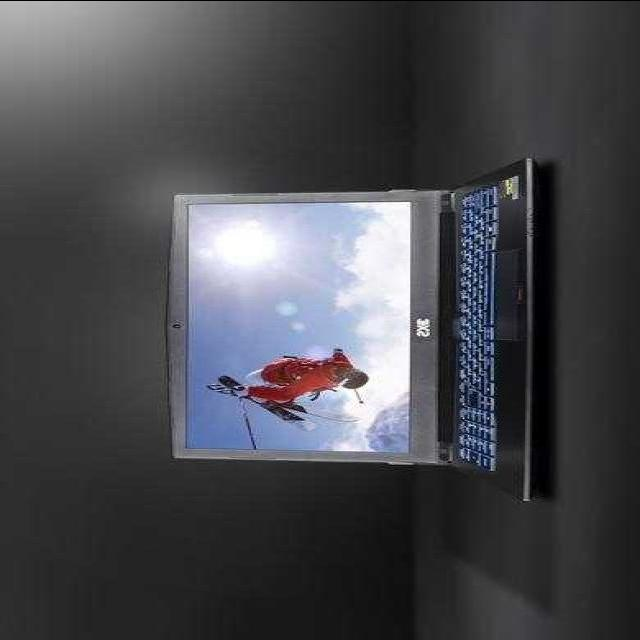-keyboard-: (154, 156, 596, 510)
